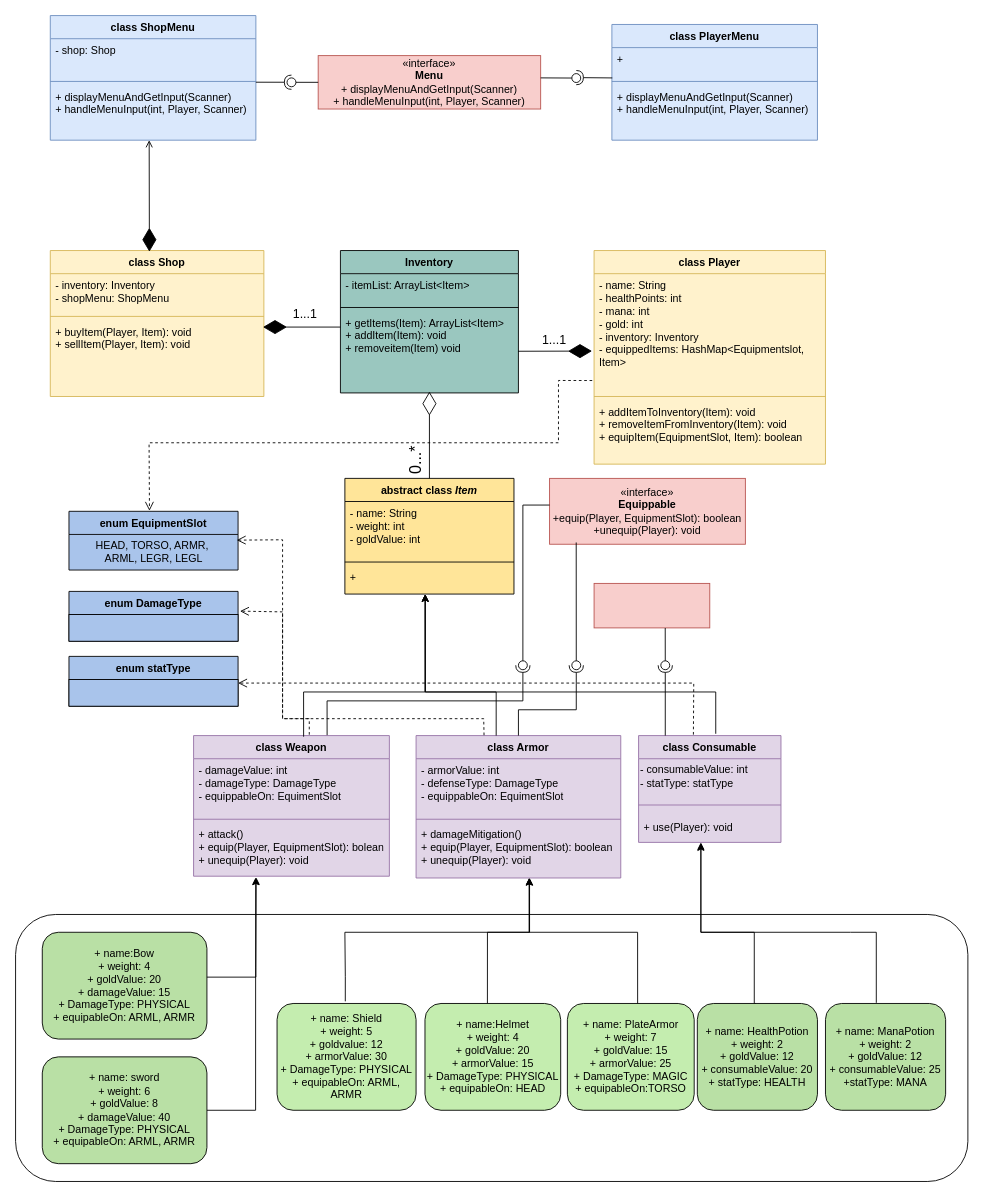
The diagram is 983 pixels wide and 1197 high, and some of its shapes have lost their labels. The centre of each missing label's shape, as x and y in pixels:
HEALTH, MANA: the point at 153,692
PHYSICAL,MAGICAL: the point at 153,627
«interface» Usable + use(Player): void: the point at 651,605
